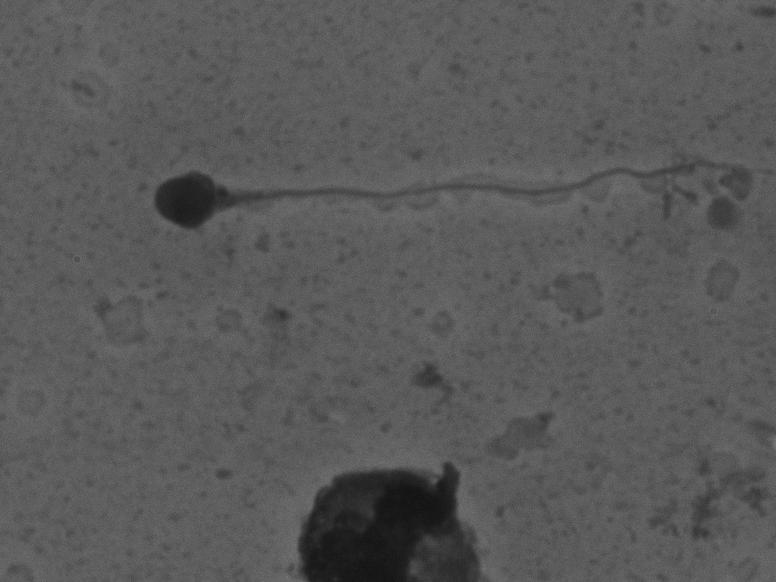Abnormal: (127, 126, 754, 237)
